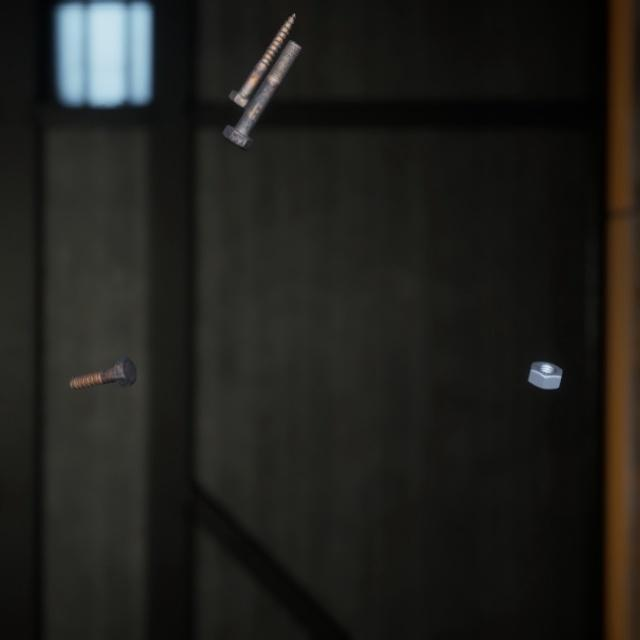bolt: (218, 23, 306, 142), (223, 0, 300, 103), (64, 333, 140, 375)
nut: (523, 338, 567, 374)
